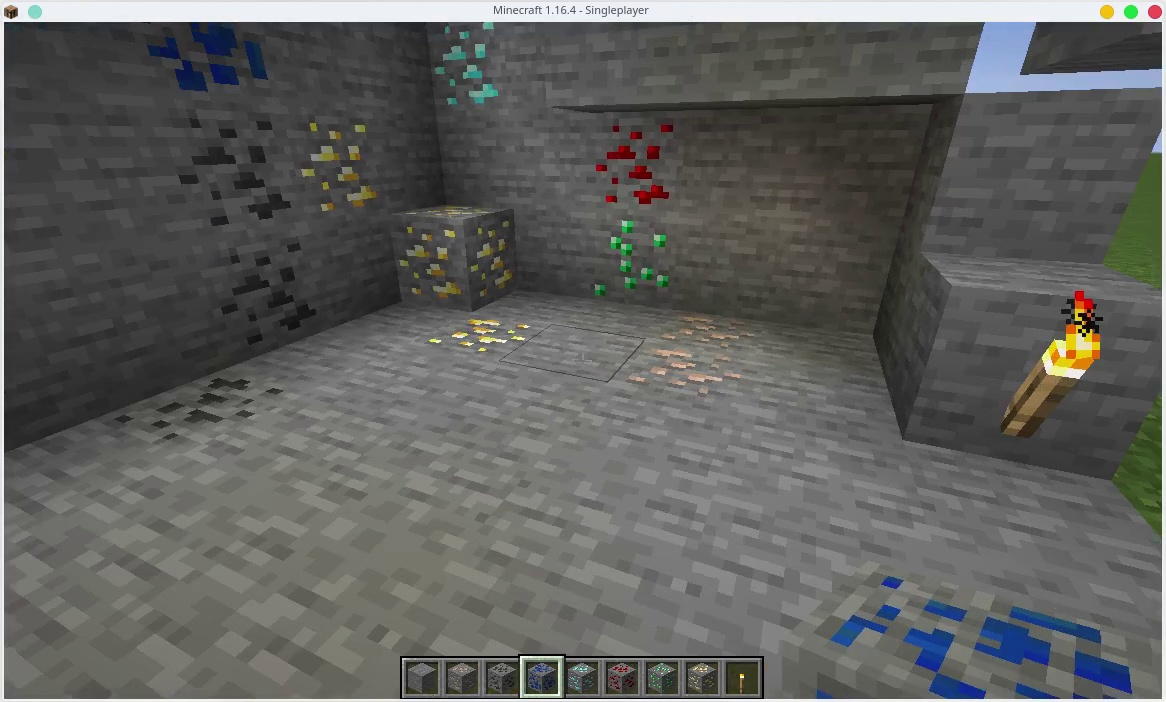gold: (397, 204, 518, 311), (300, 115, 376, 208), (433, 315, 537, 373), (688, 665, 720, 693)
